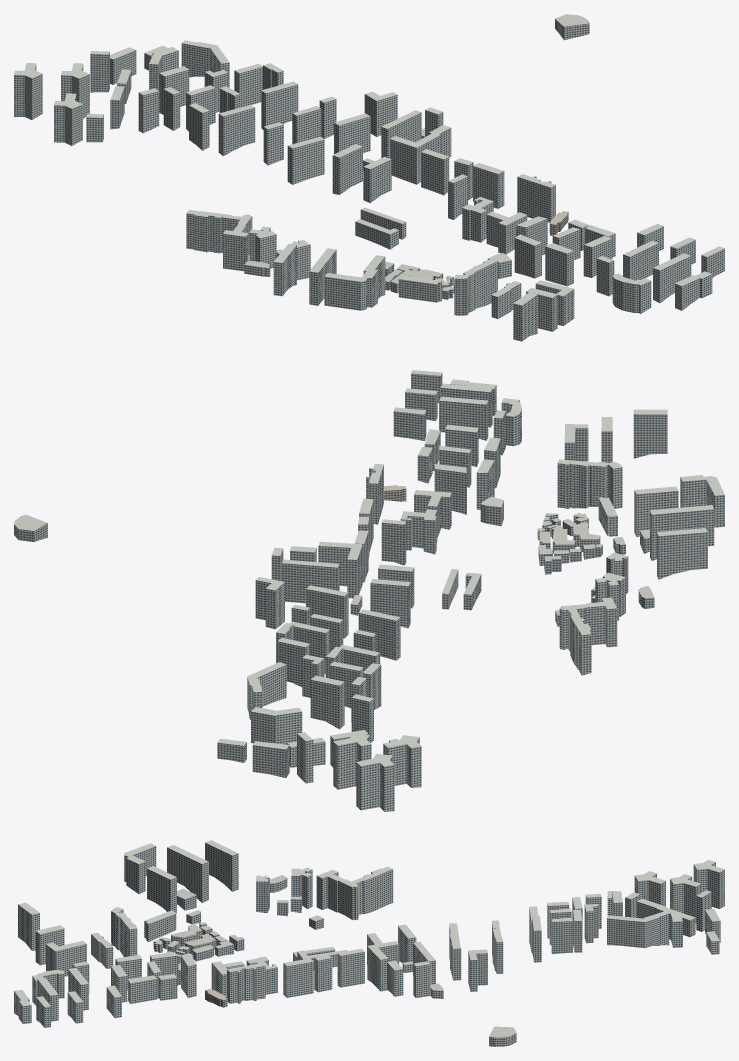
Rendered from city_-6_-5.glb.
The picture shows the model from 3 angles, top to bottom: view 1: azimuth 30°, elevation 25°; view 2: azimuth 150°, elevation 25°; view 3: azimuth 270°, elevation 25°; orthographic projection. The views are drawn at different scales.
Bounding box in the file's own units: 709 × 108 × 1017.
4 materials, 4 textured.
